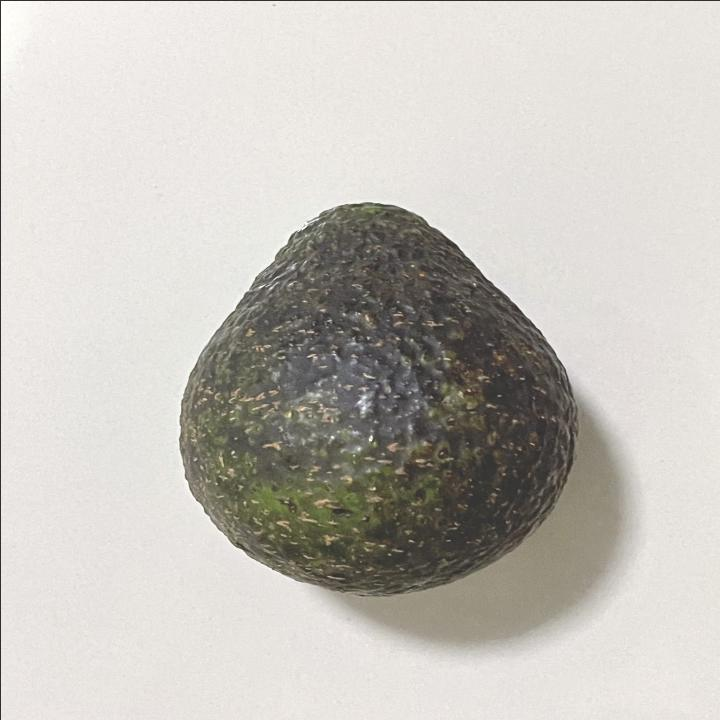Level1: (156, 182, 598, 608)
